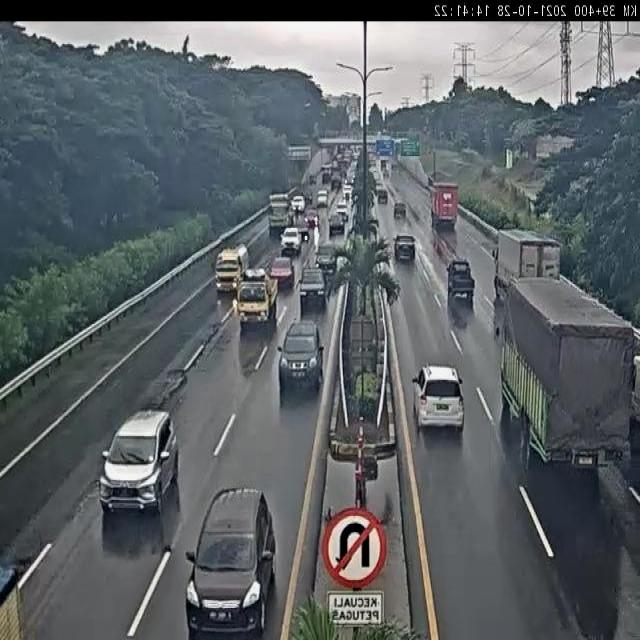Bus: (206, 242, 246, 292)
Car: (184, 480, 281, 640), (96, 407, 179, 517), (411, 350, 463, 434), (277, 319, 328, 395), (445, 258, 477, 304)
Truck: (500, 278, 640, 468), (492, 220, 561, 283), (240, 270, 282, 336), (428, 178, 462, 228)
